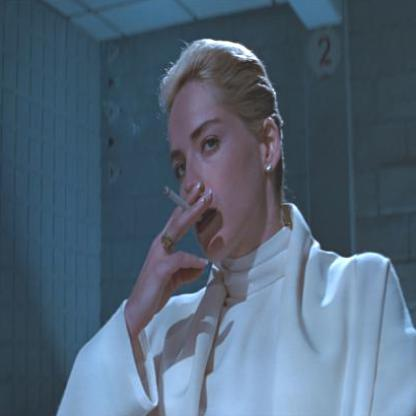cigarette: (162, 183, 190, 213)
person: (100, 46, 396, 416)
